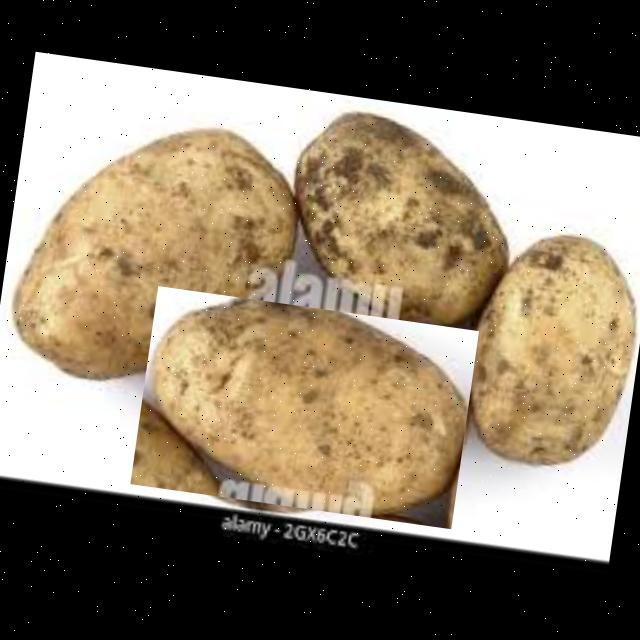Diseased-fungal potato: (275, 100, 530, 342)
Potato: (3, 94, 314, 408), (130, 285, 478, 528), (452, 218, 640, 482)
